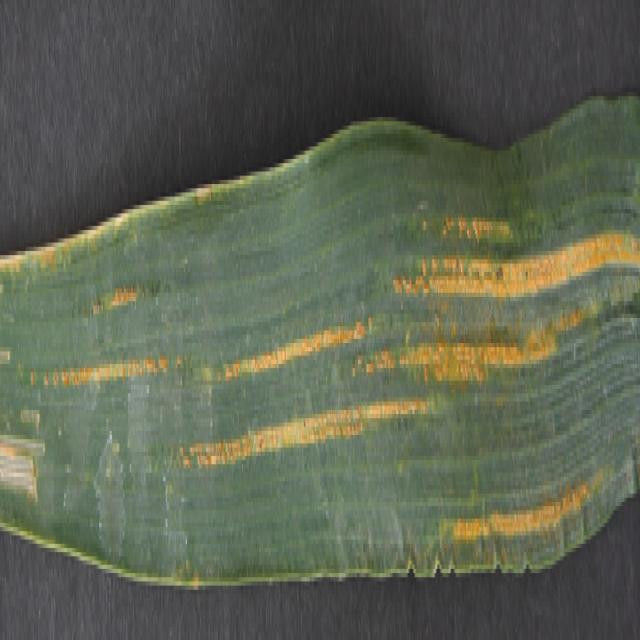leaf rust: (36, 176, 637, 556)
